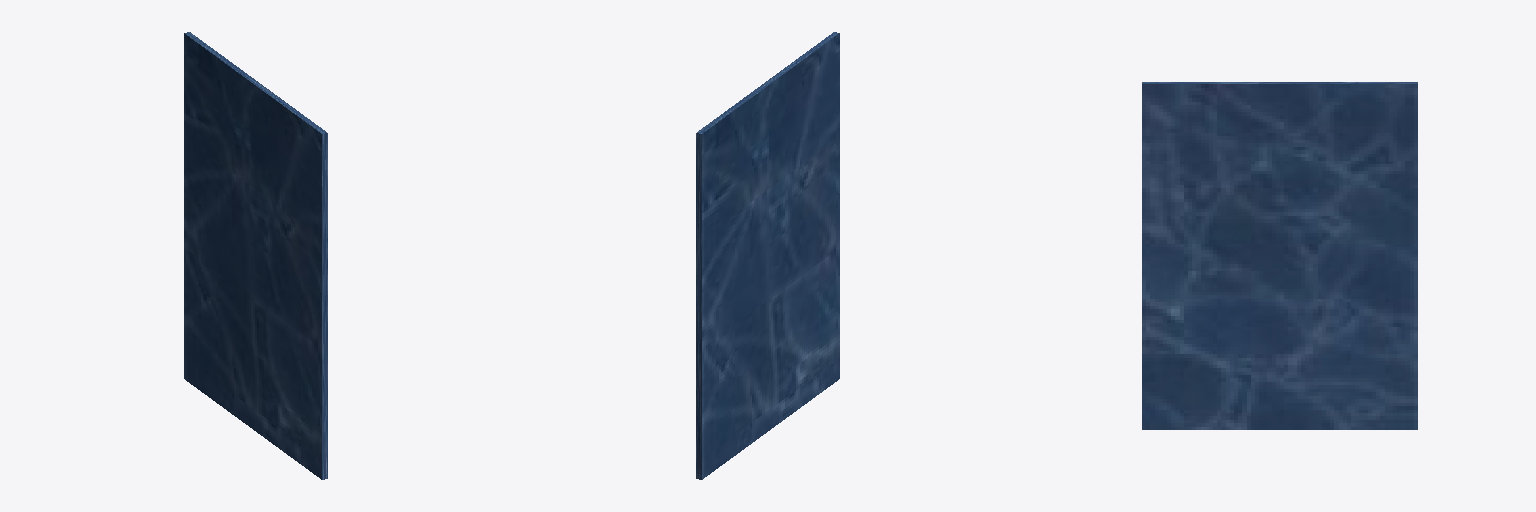
3 views of the same model, side by side, from view 1: azimuth 30°, elevation 25°; view 2: azimuth 150°, elevation 25°; view 3: azimuth 270°, elevation 25° (orthographic).
Visible parts, largest first — view 1: FlipSlabud:pCube14; view 2: FlipSlabud:pCube14; view 3: FlipSlabud:pCube14.
Boxes of the visible parts, x1=… form: FlipSlabud:pCube14: x1=184, y1=32, x2=327, y2=479; FlipSlabud:pCube14: x1=696, y1=32, x2=839, y2=479; FlipSlabud:pCube14: x1=1142, y1=82, x2=1417, y2=429.
Bounding box in the file's own units: 0.3211 × 18.66 × 13.49.
Materials: 1 (1 with a texture image).